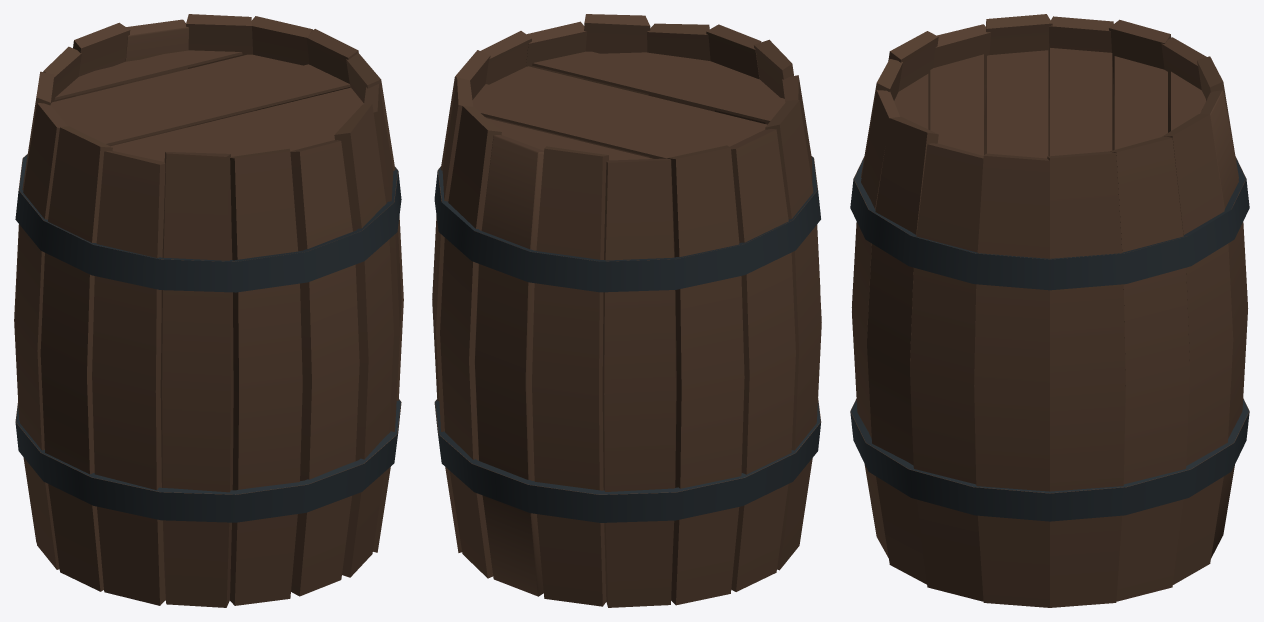
Rendered from Barrel.fbx.
The picture shows the model from 3 angles, left to right: view 1: azimuth 30°, elevation 25°; view 2: azimuth 150°, elevation 25°; view 3: azimuth 270°, elevation 25°; orthographic projection.
Parts seen in each view (by area): view 1: Barrell.027; view 2: Barrell.027; view 3: Barrell.027.
Boxes of the visible parts, x1=… form: Barrell.027: x1=14, y1=14, x2=403, y2=607; Barrell.027: x1=432, y1=14, x2=821, y2=607; Barrell.027: x1=850, y1=14, x2=1249, y2=607.
Bounding box in the file's own units: 0.6252 × 0.795 × 0.6354.
